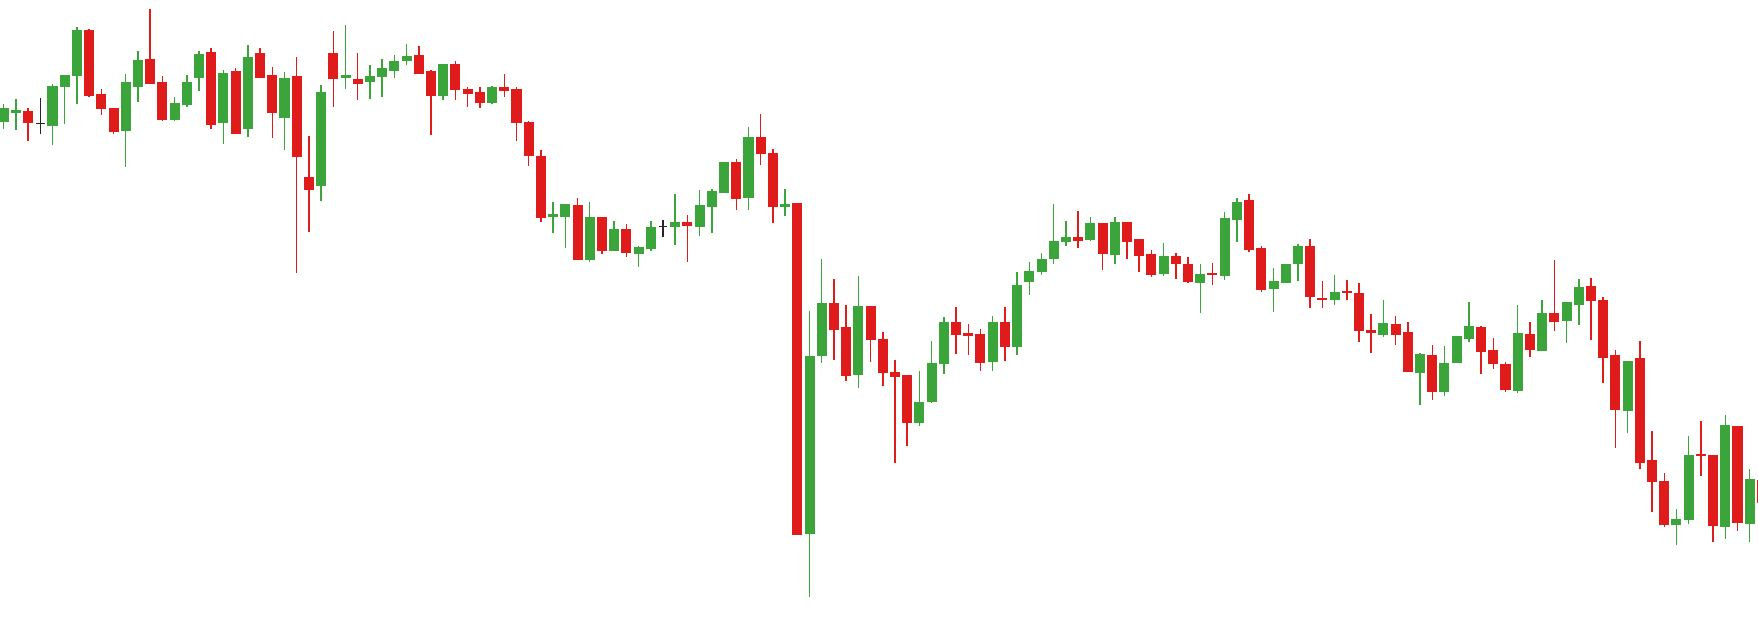sell: (1045, 193, 1255, 275), (1463, 261, 1562, 356), (68, 10, 155, 110)
